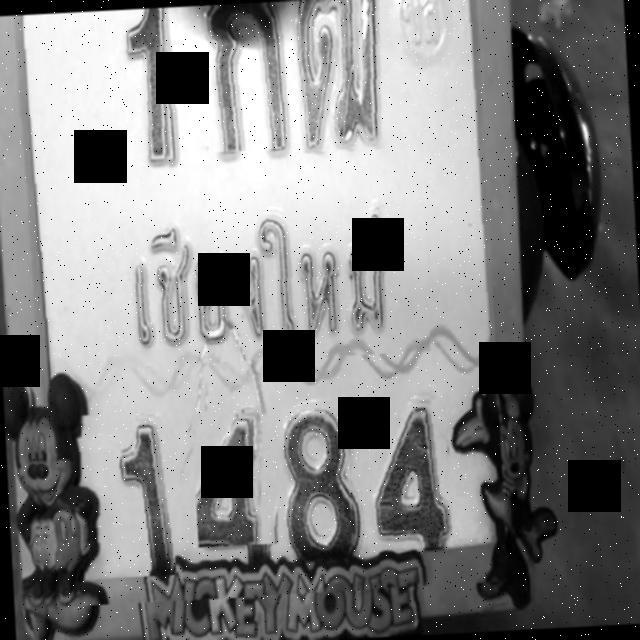letters: (294, 0, 404, 153), (80, 412, 176, 580), (352, 394, 453, 552), (187, 2, 282, 153), (106, 8, 178, 202), (270, 400, 355, 562), (192, 408, 286, 548)
license-plate: (5, 0, 496, 607)
province: (99, 200, 432, 368)
